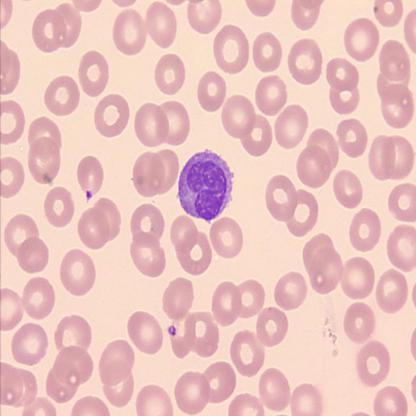Monocyte: (175, 148, 236, 222)
